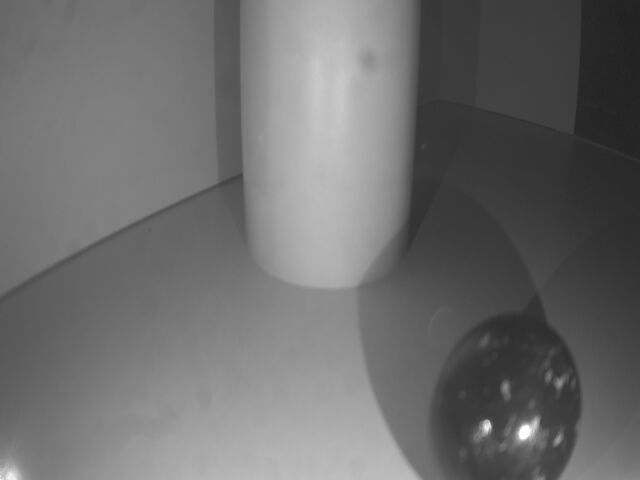Dead: (430, 308, 587, 480)
